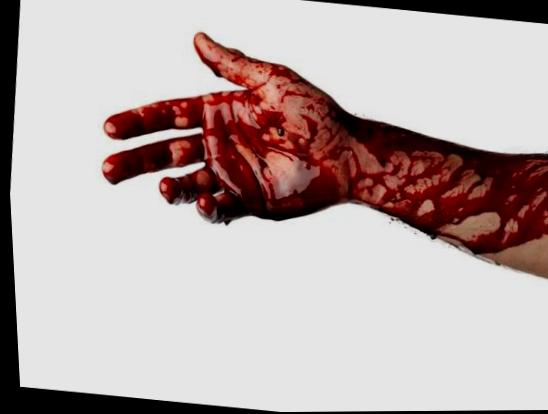Fire: (101, 33, 548, 254)
